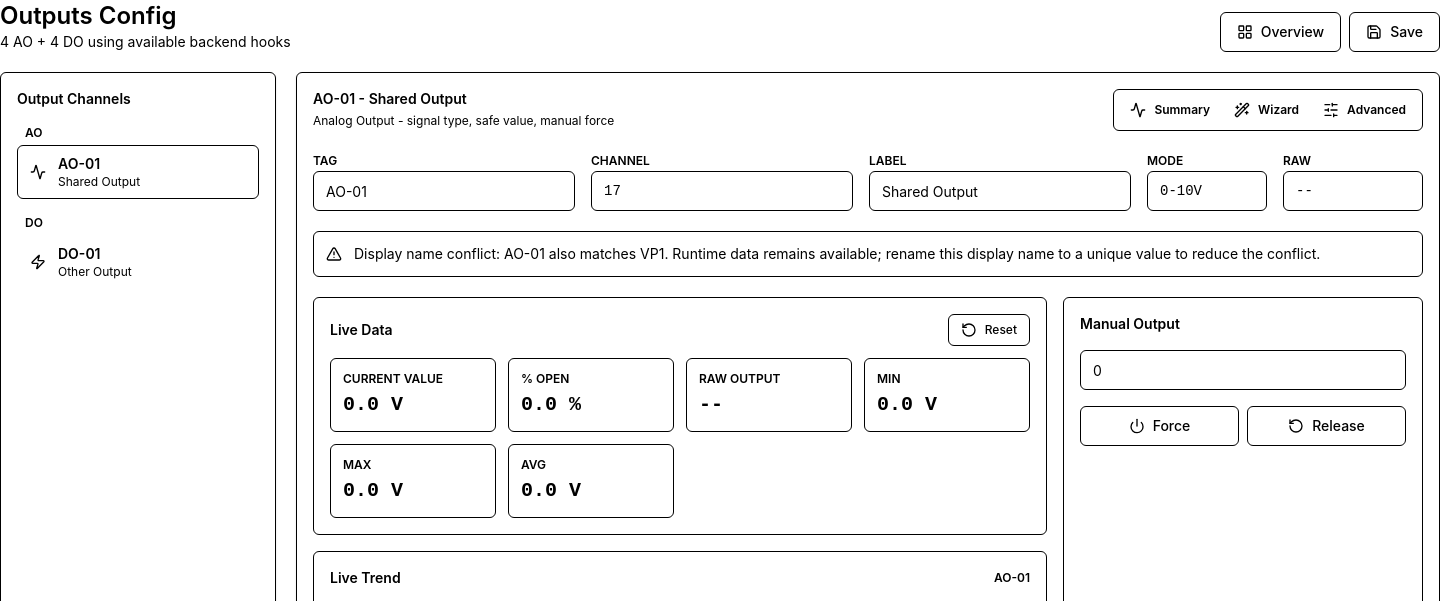
OutputsPage point metadata recovery › cancels the save confirmation without writing changes
This screenshot has width=1440, height=601.
Expected: the field labelled "Label" is shown, 869,171 -> 1131,211
Click the button "Save": (1395, 32) 1349,12 -> 1439,52
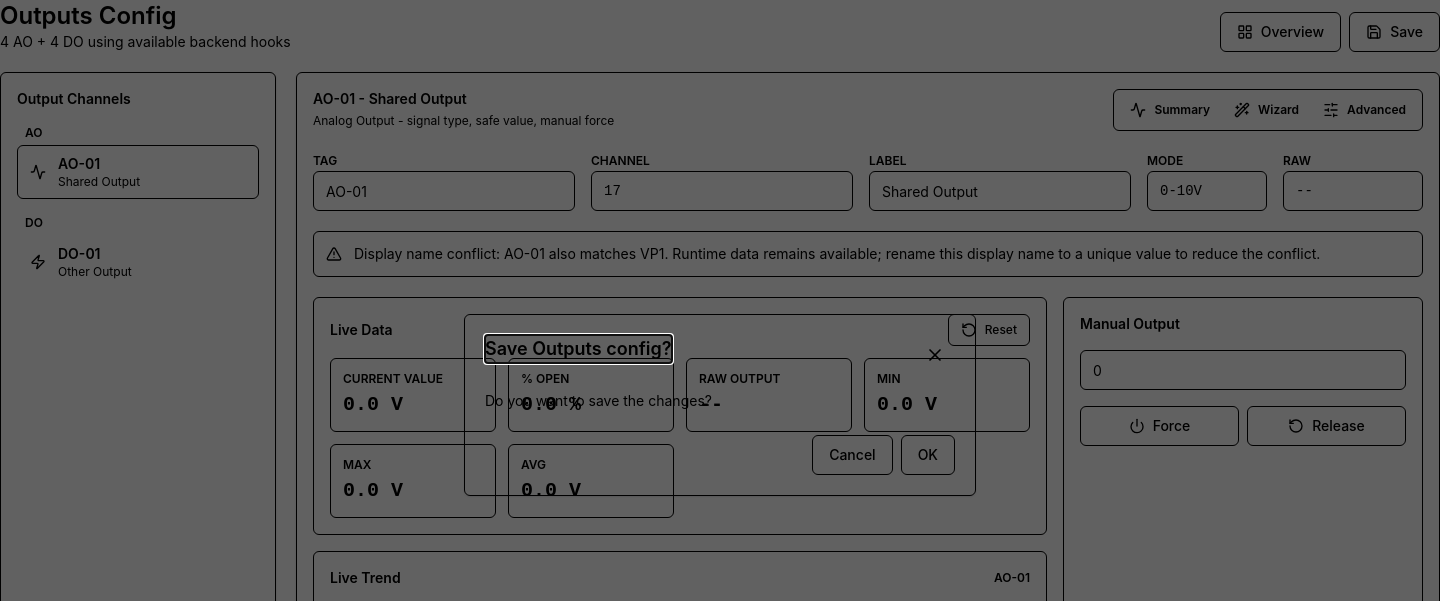
Click the button "Cancel": (852, 455) 812,435 -> 893,475
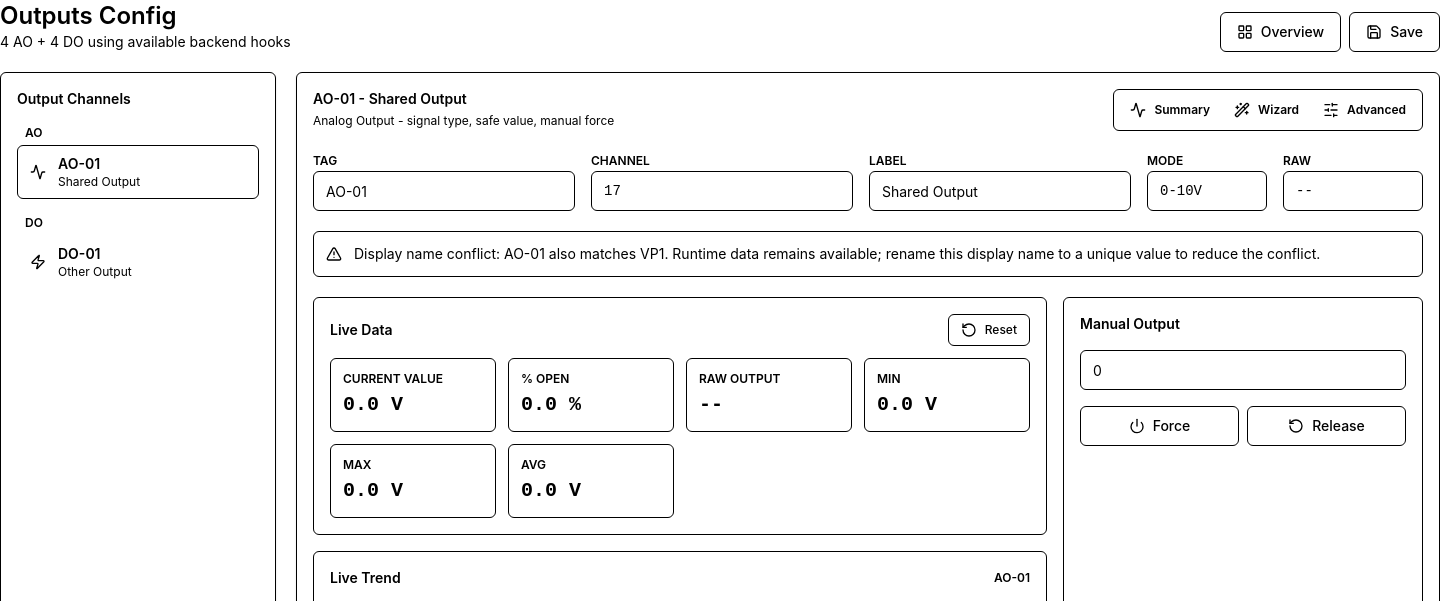
Expected: the heading "Save Outputs config?" is gone
